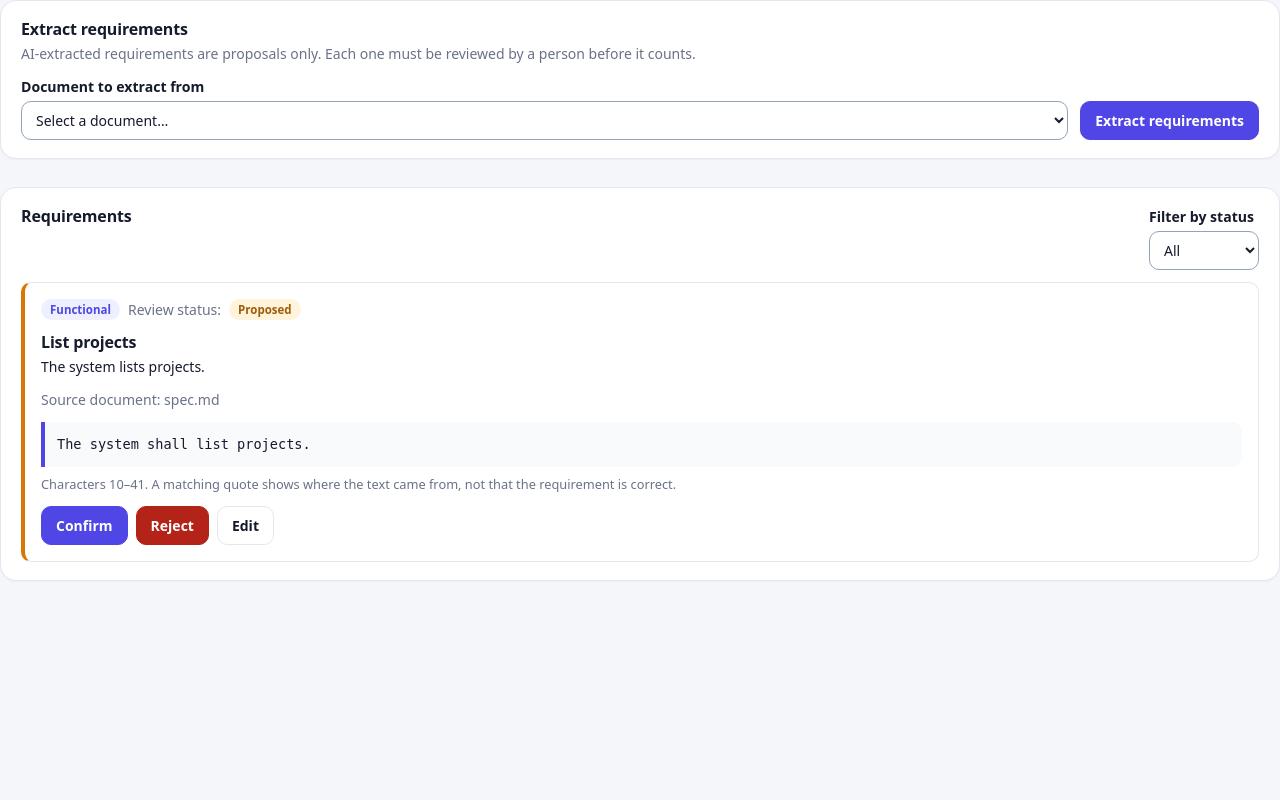
Test: RequirementsSection › reports skipped duplicates on repeat extraction
Expected: the heading "List projects" is shown, top-left (41, 332), bottom-right (136, 354)
Select "spec.md" in the dropdown labelled "Document to extract from" at (545, 121), box top-left (21, 101), bottom-right (1068, 140)
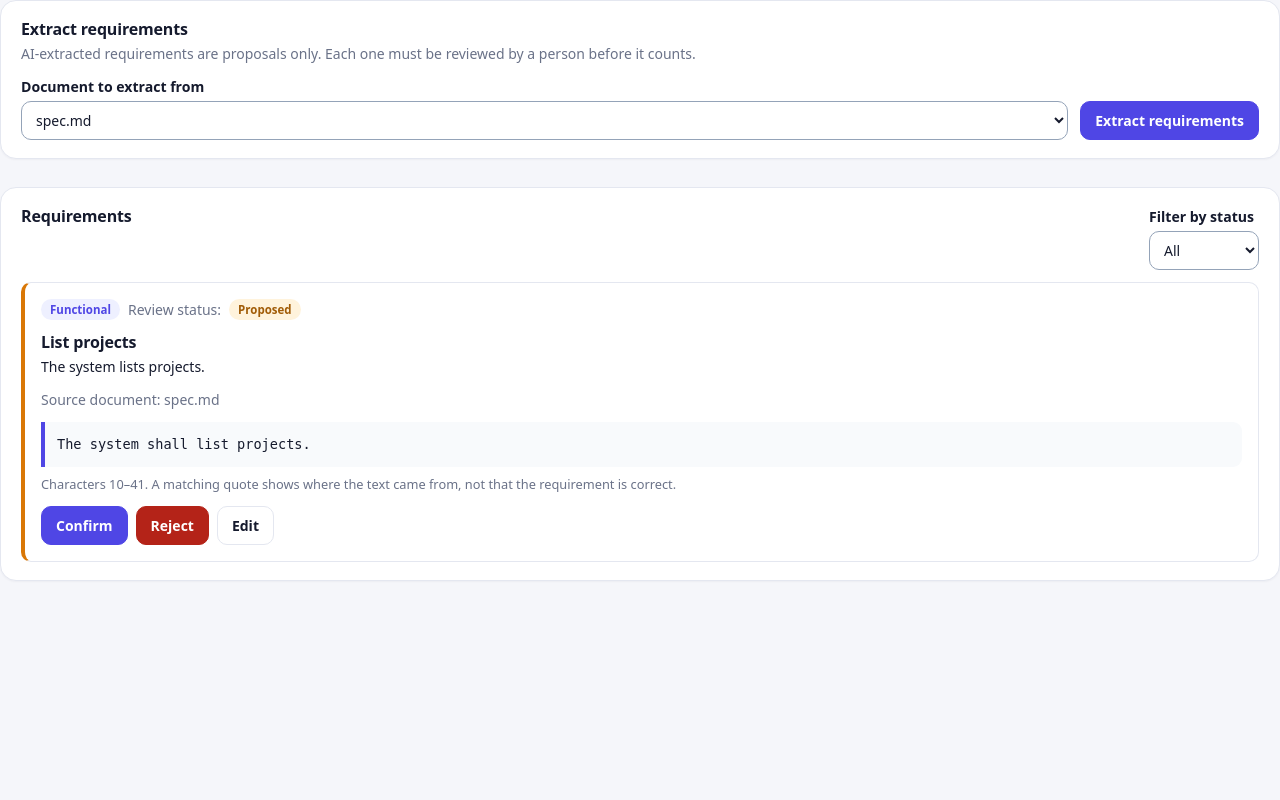
Click the button "Extract requirements".
click(1170, 121)  # box top-left (1080, 101), bottom-right (1259, 140)
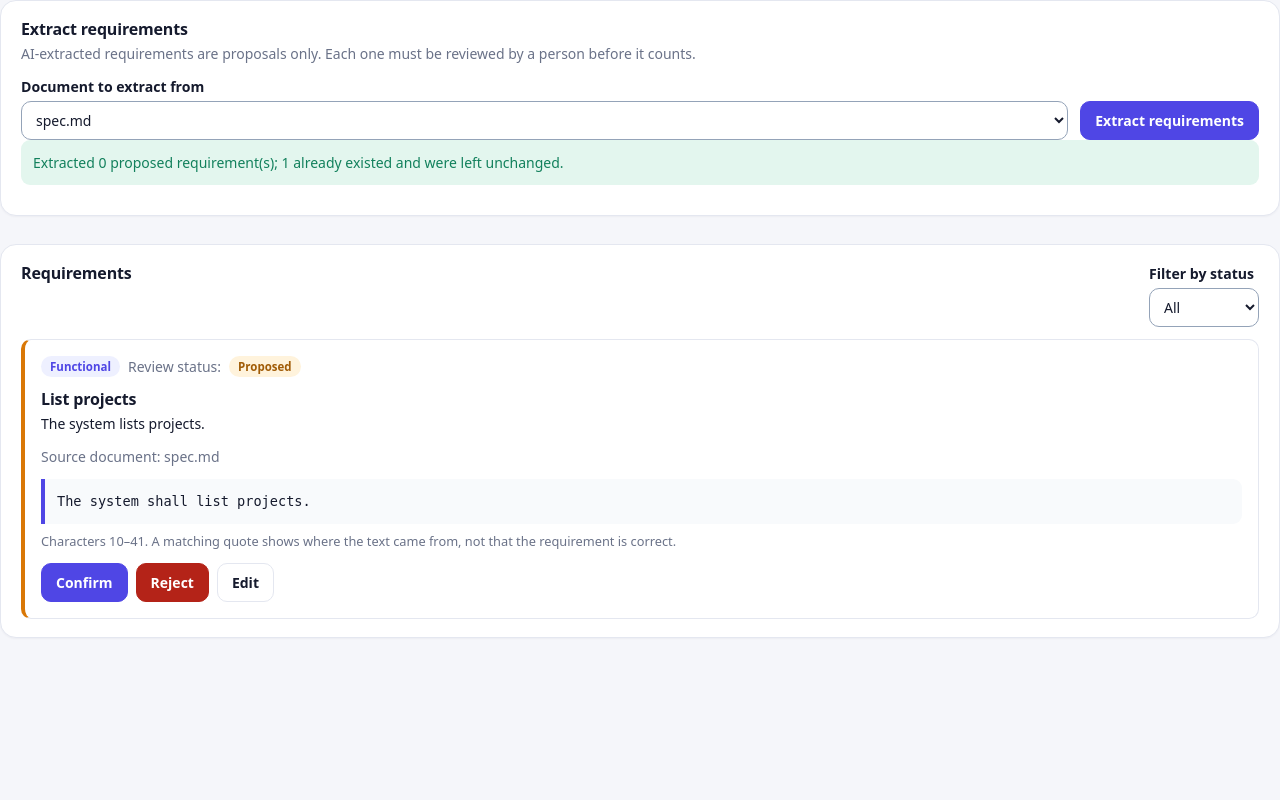
Expected: the number of list items is 1, top-left (21, 339), bottom-right (1259, 619)
Expected: the message shows "1 already existed", top-left (33, 153), bottom-right (564, 172)
